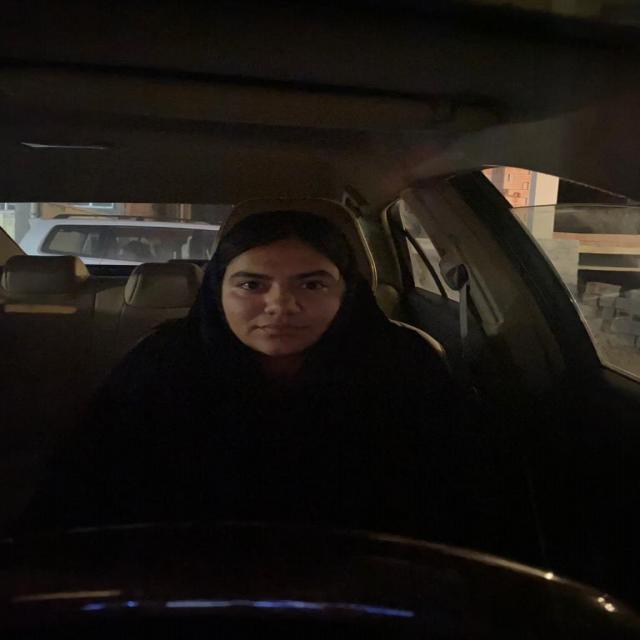person: (202, 203, 367, 369)
